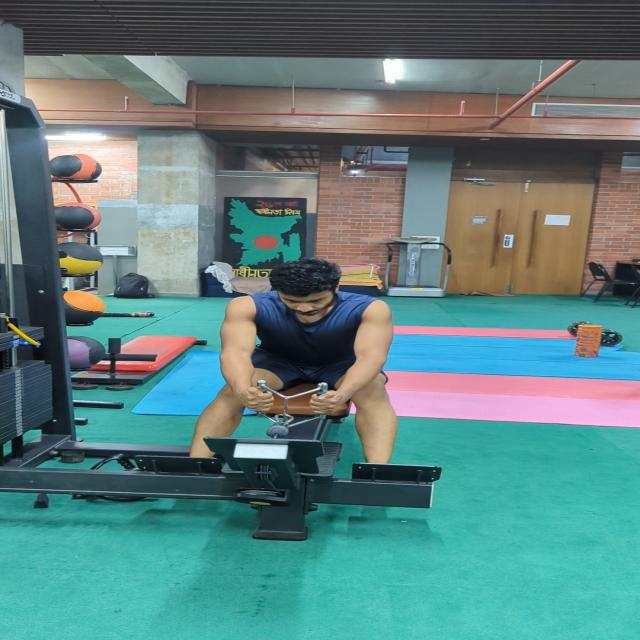Normal_RowingMachineExercise: (184, 257, 423, 480)
